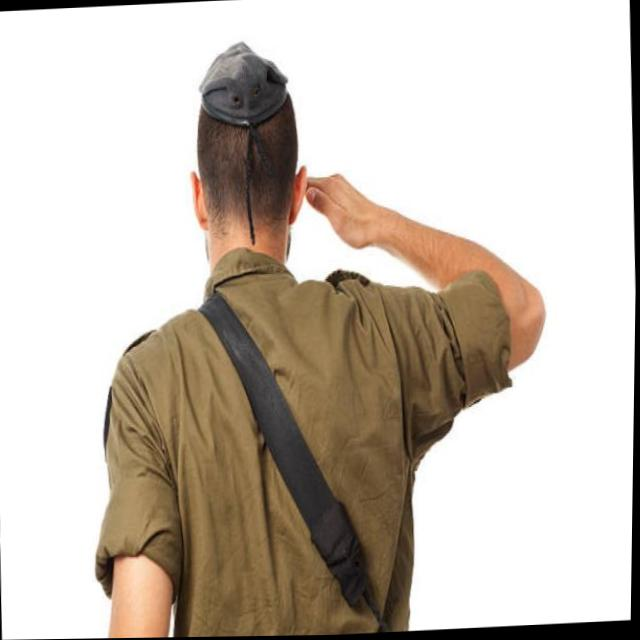no helmet: (162, 20, 316, 289)
